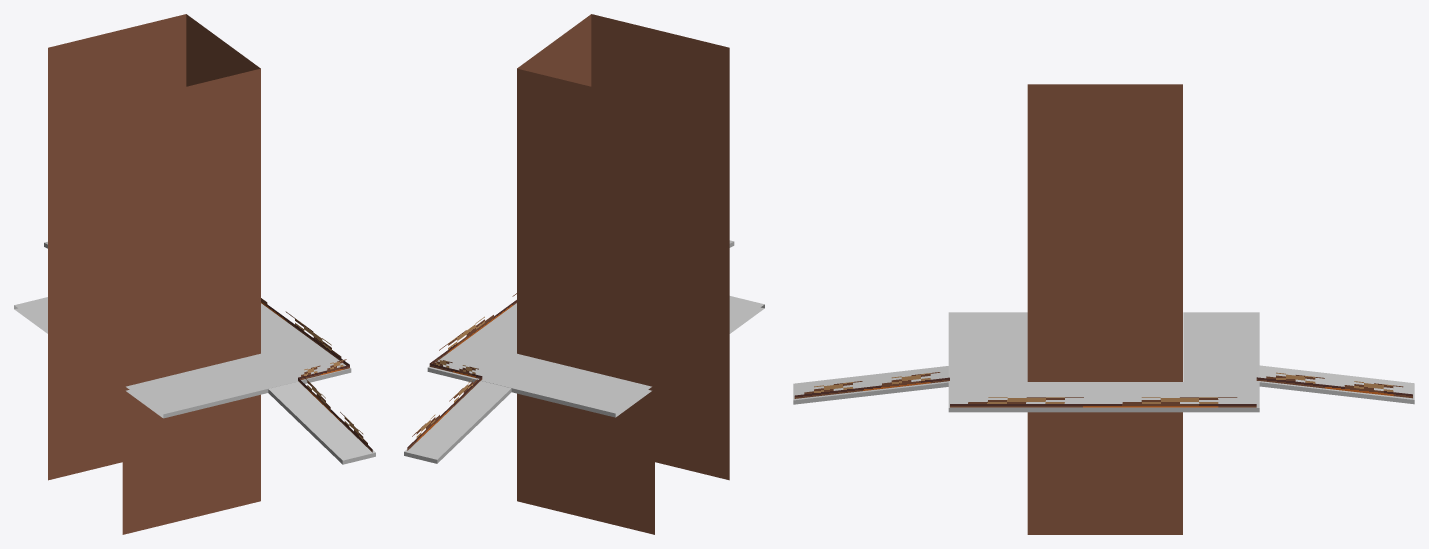
The model's file is bridgepillar.fbx.
3 renders of one model, left to right at view 1: azimuth 30°, elevation 25°; view 2: azimuth 150°, elevation 25°; view 3: azimuth 270°, elevation 25°, orthographic. The views are drawn at different scales.
Parts seen in each view (by area): view 1: Cube.017, path.001, path.003, grate.009, grate.003; view 2: Cube.017, path.001, path.006, grate.009, grate.013; view 3: Cube.017, path.001, path.003, path.006, grate.009, grate.013, grate.003.
Boxes of the visible parts, x1=… form: Cube.017: x1=48, y1=14, x2=260, y2=534; path.001: x1=14, y1=297, x2=351, y2=418; path.003: x1=268, y1=381, x2=375, y2=464; grate.009: x1=261, y1=298, x2=349, y2=365; grate.003: x1=298, y1=376, x2=372, y2=452; Cube.017: x1=517, y1=14, x2=729, y2=534; path.001: x1=427, y1=296, x2=764, y2=417; path.006: x1=404, y1=381, x2=511, y2=463; grate.009: x1=430, y1=293, x2=516, y2=363; grate.013: x1=407, y1=376, x2=482, y2=450; Cube.017: x1=1027, y1=84, x2=1182, y2=534; path.001: x1=948, y1=312, x2=1259, y2=412; path.003: x1=793, y1=366, x2=948, y2=404; path.006: x1=1259, y1=365, x2=1414, y2=404; grate.009: x1=950, y1=397, x2=1256, y2=407; grate.013: x1=1256, y1=372, x2=1412, y2=398; grate.003: x1=794, y1=372, x2=949, y2=398.
Size of the model in its own units: 4679 by 10132 by 12653.
